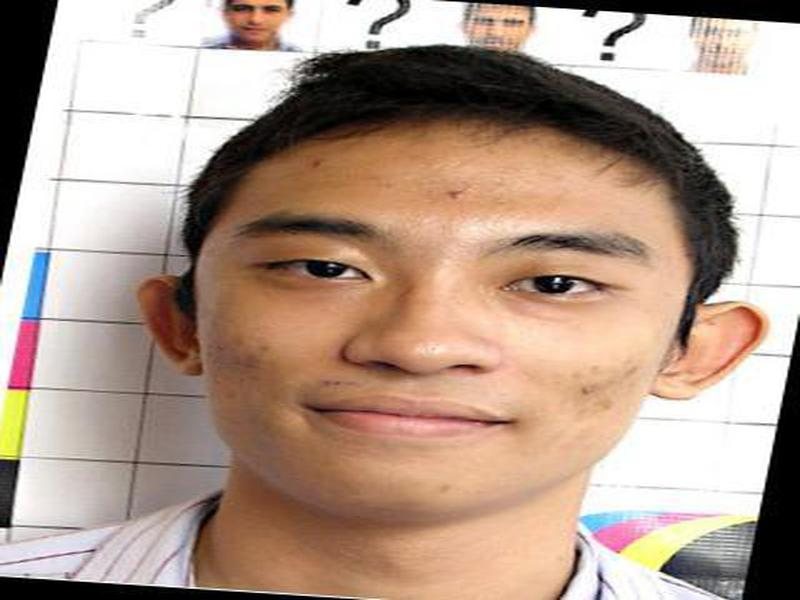without_mask: (197, 168, 674, 527)
